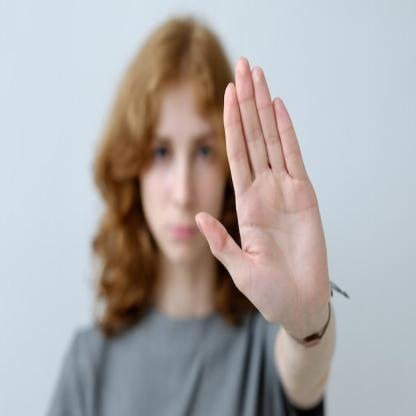stop: (192, 52, 334, 328)
